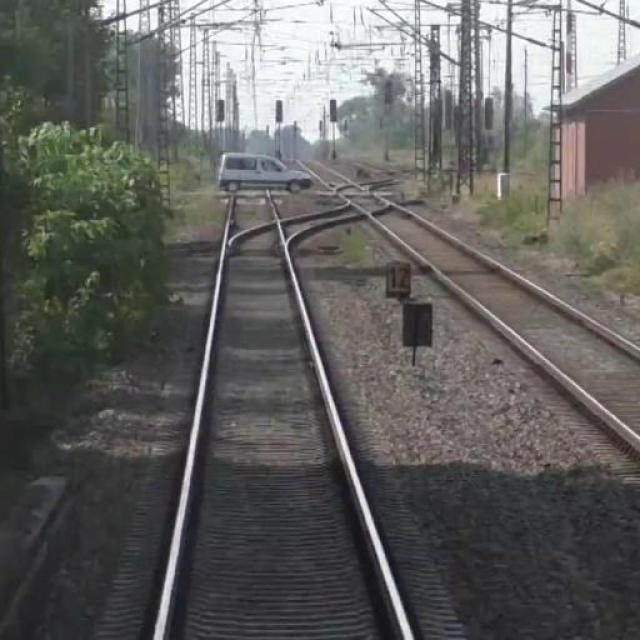vehicle: (215, 147, 326, 206)
